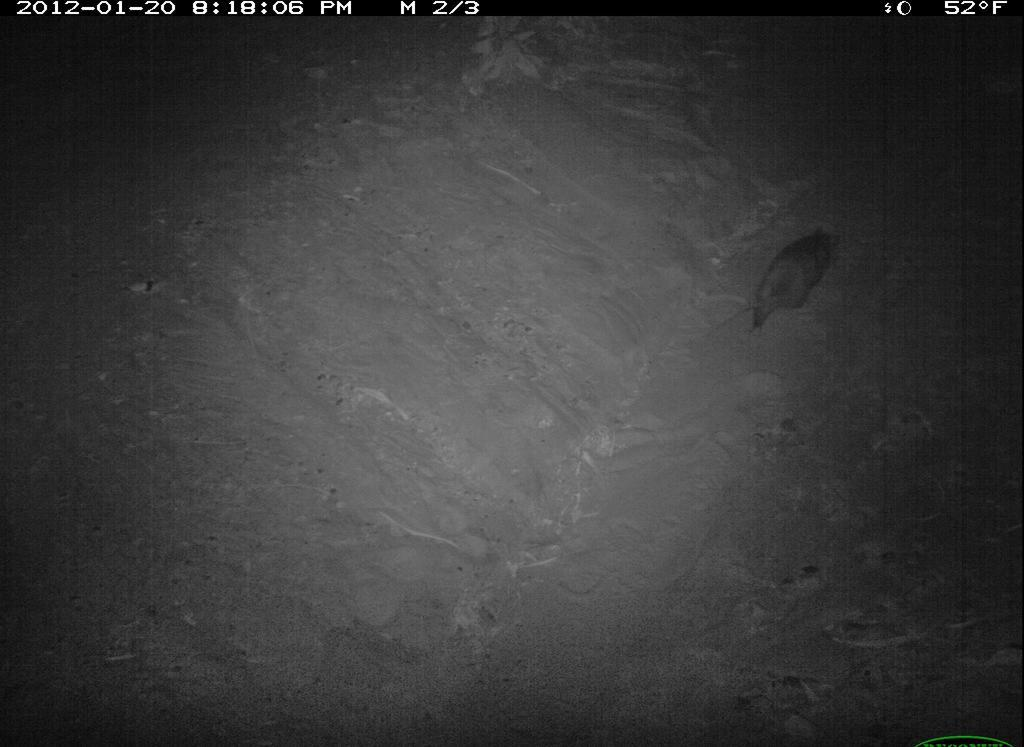opossum: (726, 210, 847, 337)
